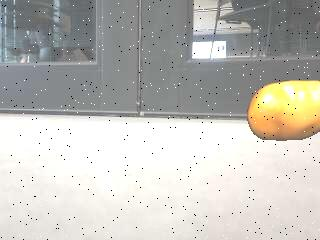Potato: (245, 77, 320, 143)
